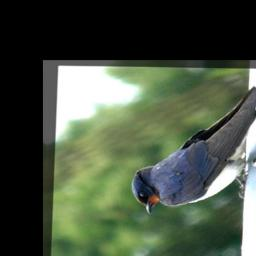Swallow: (130, 68, 256, 217)
